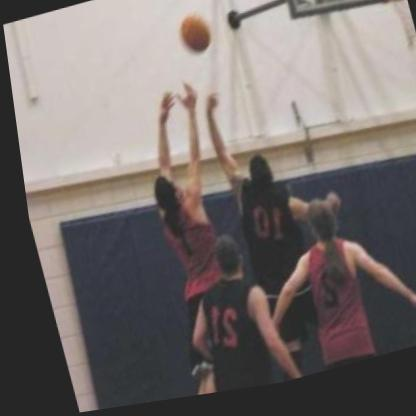basketball: (166, 10, 221, 68)
